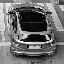motor: (13, 4, 41, 54)
